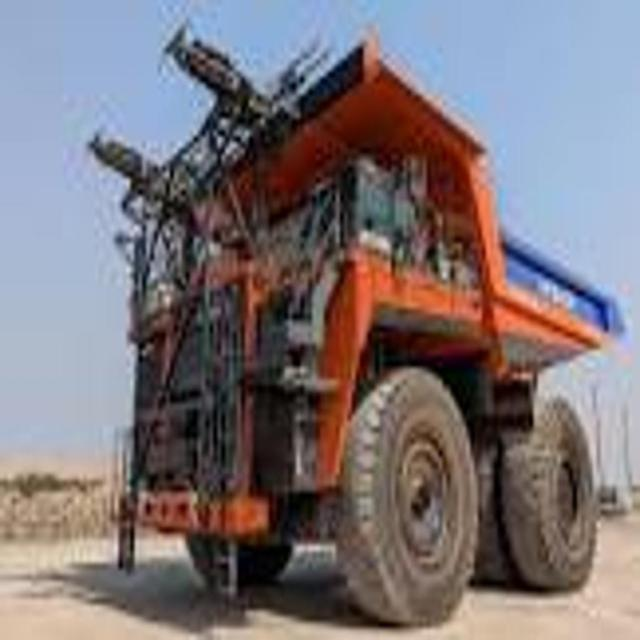dump_truck: (81, 5, 628, 640)
